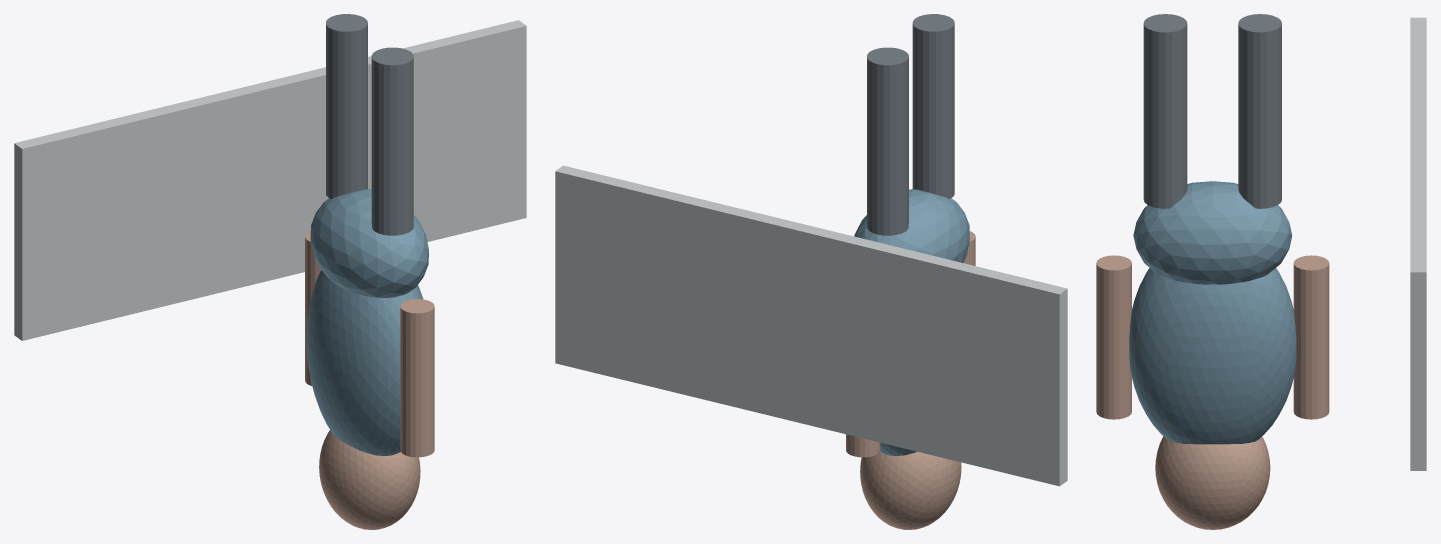
The model's file is lateral-high.glb.
The picture shows the model from 3 angles, left to right: view 1: azimuth 30°, elevation 25°; view 2: azimuth 150°, elevation 25°; view 3: azimuth 270°, elevation 25°; orthographic projection. The views are drawn at different scales.
Visible parts, largest first — view 1: reference_surface, torso, pelvis, left_leg, right_leg, head, left_arm, right_arm; view 2: reference_surface, right_leg, left_leg, head, pelvis, right_arm; view 3: torso, pelvis, left_leg, head, right_leg, reference_surface, right_arm, left_arm.
Part boxes in pixels (left/top/right/bottom): reference_surface: left=14, top=20, right=526, bottom=340; torso: left=306, top=270, right=423, bottom=455; pelvis: left=310, top=189, right=428, bottom=297; left_leg: left=371, top=47, right=413, bottom=235; right_leg: left=326, top=14, right=367, bottom=198; head: left=319, top=430, right=420, bottom=529; left_arm: left=400, top=299, right=434, bottom=457; right_arm: left=305, top=231, right=320, bottom=385; reference_surface: left=555, top=165, right=1067, bottom=486; right_leg: left=867, top=47, right=908, bottom=235; left_leg: left=912, top=14, right=954, bottom=198; head: left=860, top=451, right=961, bottom=529; pelvis: left=854, top=189, right=969, bottom=262; right_arm: left=846, top=434, right=880, bottom=457; torso: left=1129, top=268, right=1296, bottom=444; pelvis: left=1133, top=181, right=1292, bottom=284; left_leg: left=1143, top=14, right=1187, bottom=208; head: left=1155, top=436, right=1270, bottom=529; right_leg: left=1238, top=14, right=1281, bottom=208; reference_surface: left=1410, top=17, right=1426, bottom=470; right_arm: left=1293, top=255, right=1329, bottom=419; left_arm: left=1096, top=255, right=1131, bottom=419.
Size of the model in its own units: 4.4 by 4.05 by 2.41.
